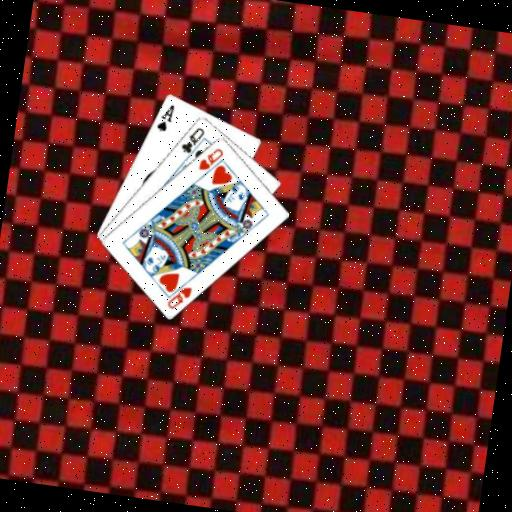AS: (153, 100, 176, 134)
QC: (177, 122, 207, 157)
QH: (163, 273, 195, 313), (195, 142, 226, 174)
